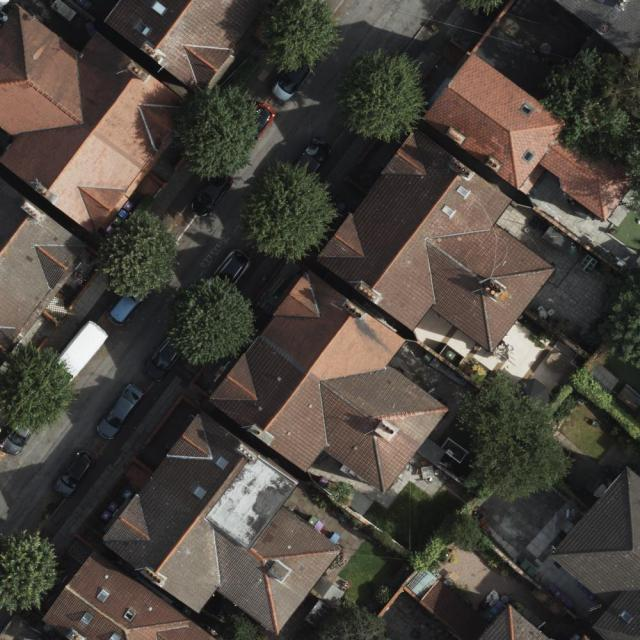roof: (98, 411, 343, 636), (314, 128, 558, 353), (209, 268, 449, 495), (0, 5, 197, 240), (421, 53, 638, 222), (0, 172, 90, 371), (41, 550, 225, 640), (549, 466, 640, 640), (106, 0, 275, 93), (420, 580, 557, 640)
skylight: (134, 19, 153, 37), (454, 182, 473, 200), (519, 99, 538, 117), (213, 454, 230, 472), (192, 483, 208, 502), (439, 202, 455, 220), (95, 588, 111, 604), (151, 1, 168, 16), (80, 608, 95, 625), (520, 147, 535, 164), (123, 608, 137, 623), (108, 632, 122, 640)
